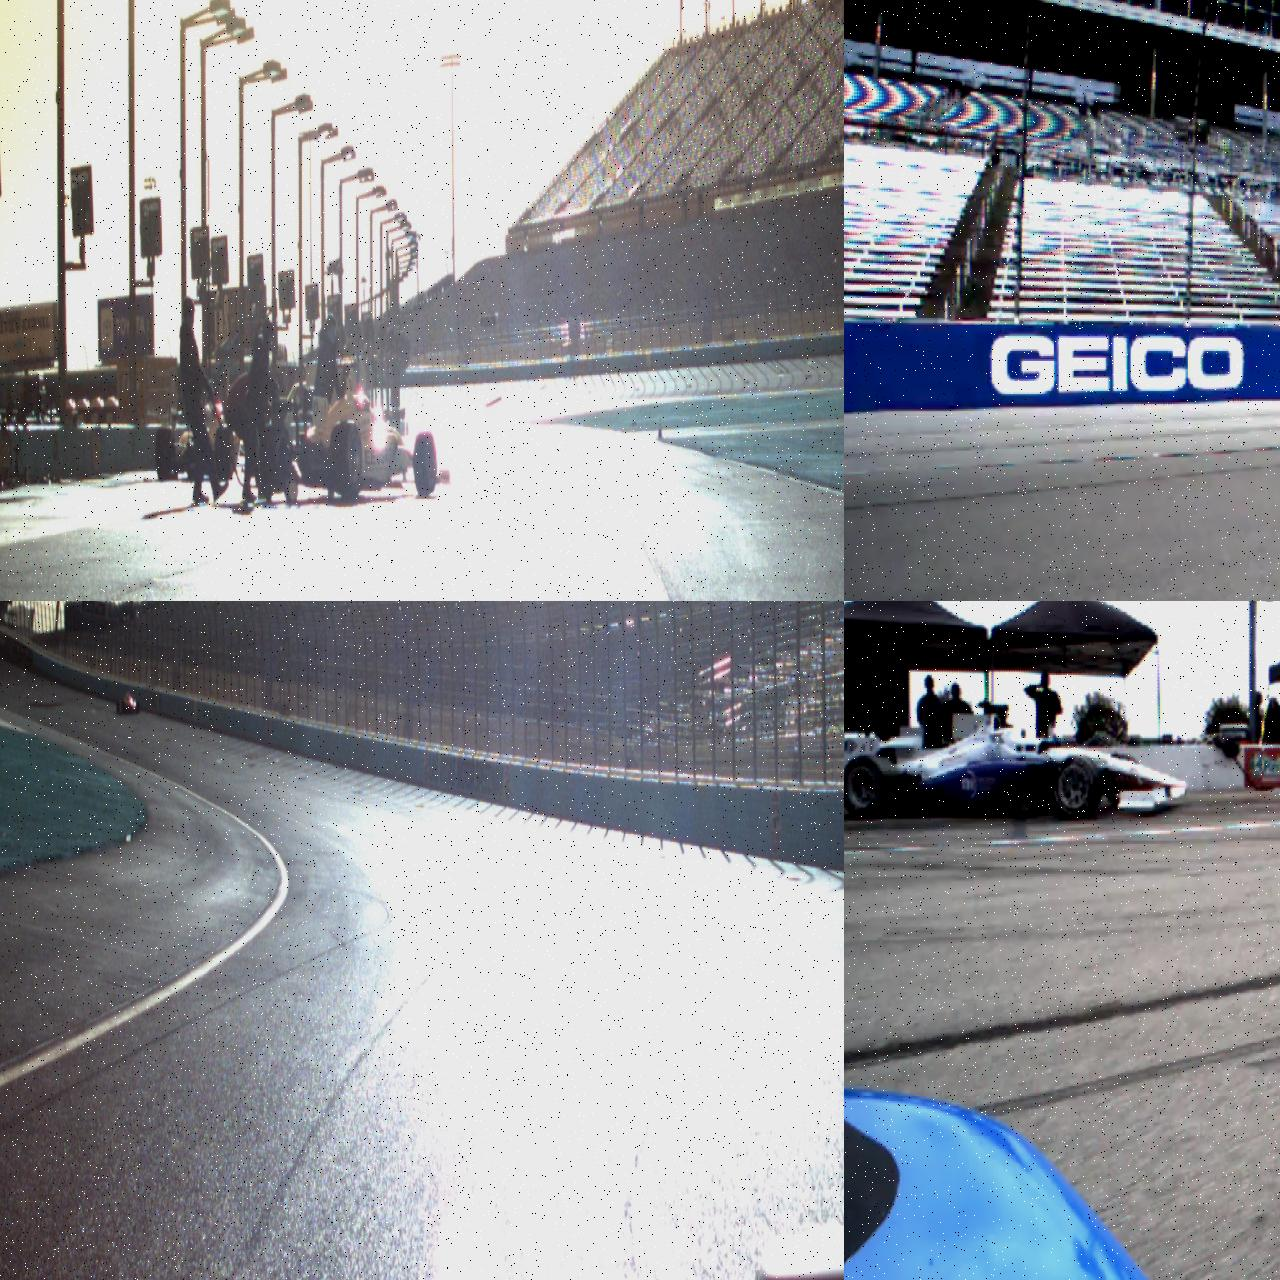AV: (844, 700, 1187, 821), (259, 356, 449, 497), (117, 688, 139, 715)
Wheel: (844, 754, 897, 817), (1053, 755, 1102, 821), (331, 420, 362, 496), (259, 427, 290, 492), (413, 433, 437, 496), (215, 427, 234, 481), (156, 428, 175, 478), (136, 702, 139, 715), (122, 701, 125, 713), (117, 701, 120, 712)
